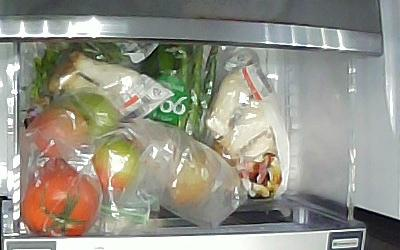tomato_vinyl: (21, 157, 98, 236), (89, 133, 143, 195), (29, 104, 87, 157), (167, 145, 213, 204), (66, 92, 120, 139)
